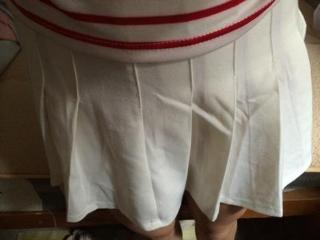skirt: (31, 0, 312, 231)
